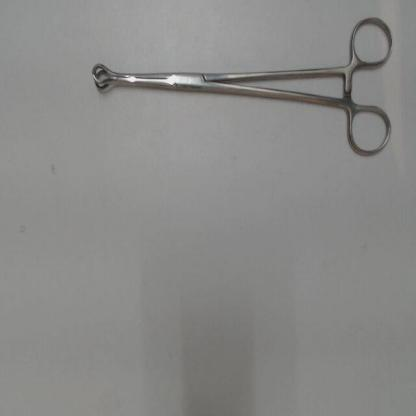8 Babcock Tissue Forceps: (86, 8, 396, 163)
